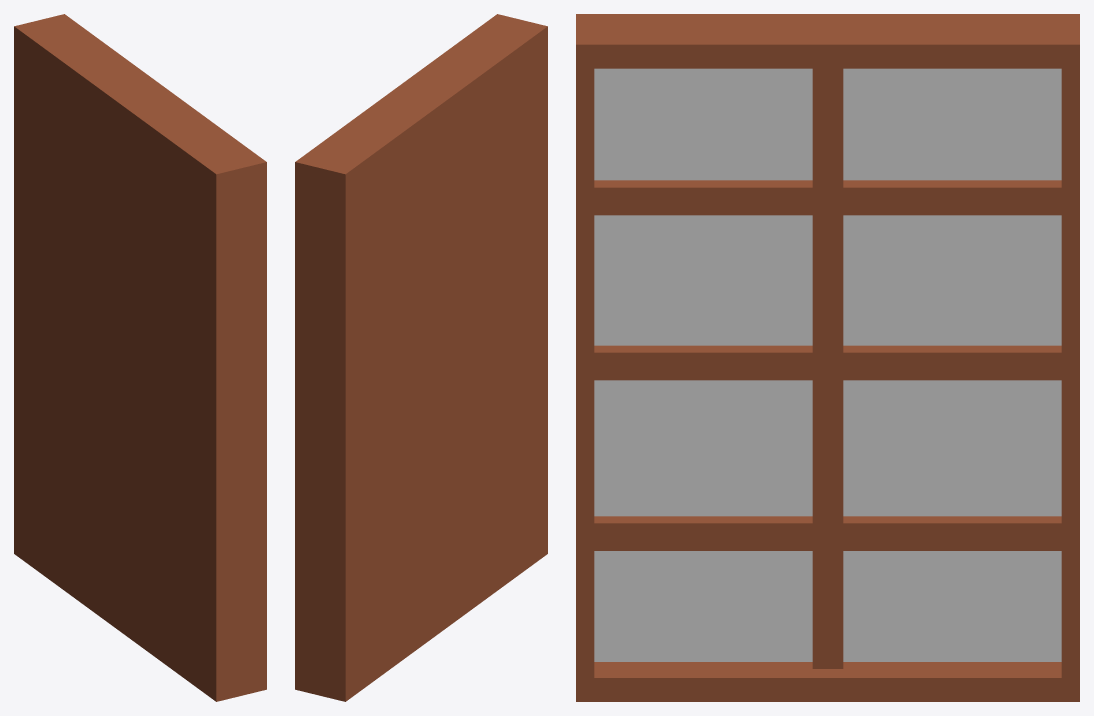
Rendered from fenêtres.fbx.
3 views of the same model, side by side, from view 1: azimuth 30°, elevation 25°; view 2: azimuth 150°, elevation 25°; view 3: azimuth 270°, elevation 25° (orthographic). The views are drawn at different scales.
Parts seen in each view (by area): view 1: Cube; view 2: Cube; view 3: Cube, Cube.001, Cube.003, Cube.004, Cube.002.
Boxes of the visible parts, x1,y1,x2,y2 form: Cube: (14,14,266,701); Cube: (295,14,547,701); Cube: (576,14,1079,701); Cube.001: (812,68,843,668); Cube.003: (594,345,1061,380); Cube.004: (594,516,1061,550); Cube.002: (594,180,1061,215).
Bounding box in the file's own units: 25.96 × 259 × 180.
